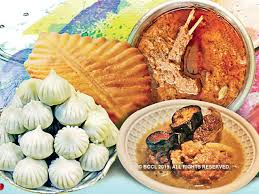modak: (50, 158, 89, 189), (51, 125, 86, 159), (17, 156, 51, 191), (36, 66, 68, 103), (57, 87, 88, 125), (21, 127, 56, 160), (18, 102, 56, 128), (80, 142, 110, 171), (3, 103, 27, 134), (1, 141, 24, 173), (86, 113, 108, 141)
